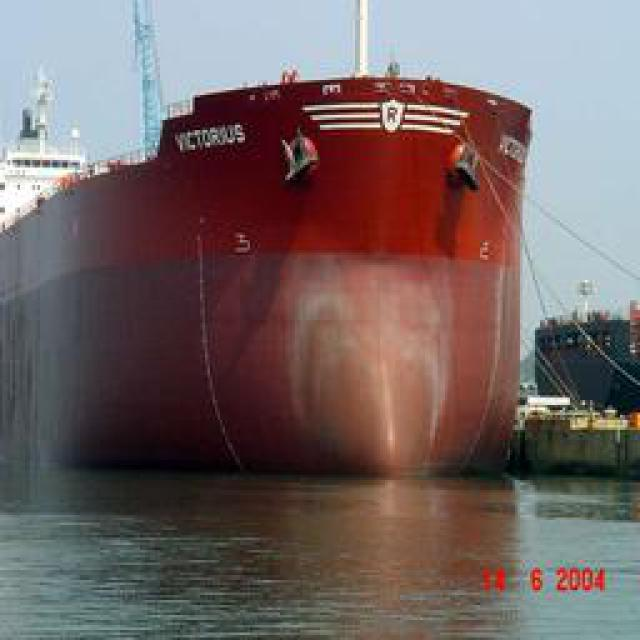Ship: (526, 318, 640, 479)
